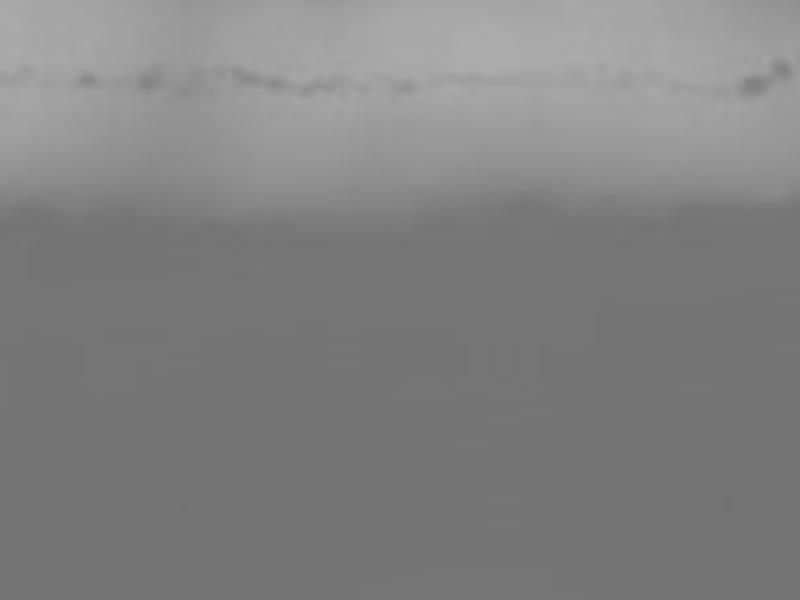defect: (232, 63, 289, 94), (296, 69, 347, 95), (737, 69, 768, 101), (134, 65, 168, 90), (171, 73, 205, 98), (4, 65, 41, 87), (389, 73, 423, 96), (766, 52, 793, 78), (351, 72, 375, 94), (74, 69, 102, 86), (611, 59, 630, 83), (209, 60, 228, 75), (590, 57, 609, 70)
